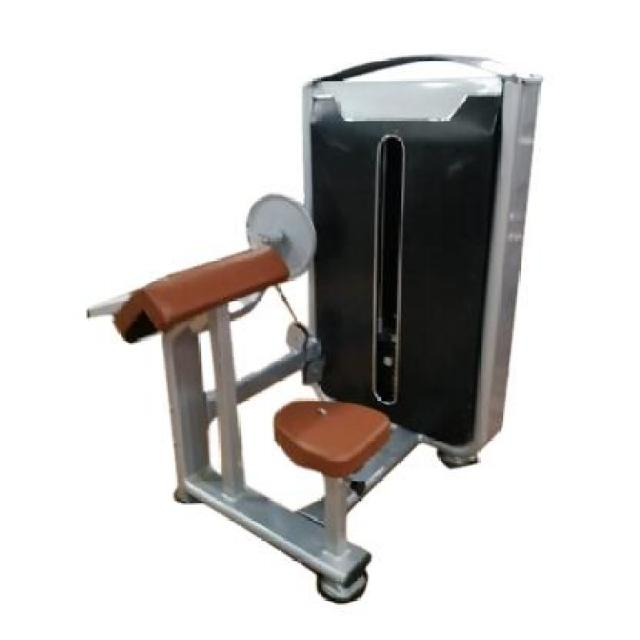arm curl machine: (83, 51, 546, 604)
